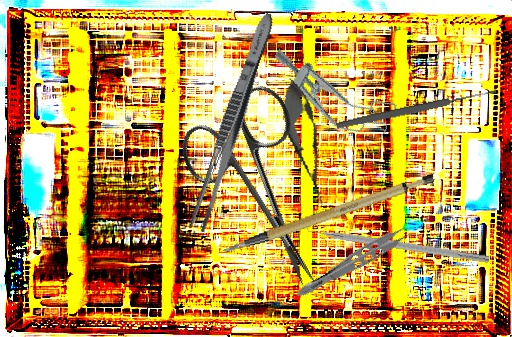Chopper: (296, 214, 492, 264)
Dressing Forceps: (187, 10, 279, 234)
Iris Scissors: (168, 78, 364, 311)
Micro Scissor: (273, 73, 338, 212)
Scalpel Handle: (215, 170, 441, 255)
Speculum: (259, 39, 402, 151)
Surgical Spoon: (335, 87, 498, 131)
Tissue Forceps: (293, 216, 423, 309)
